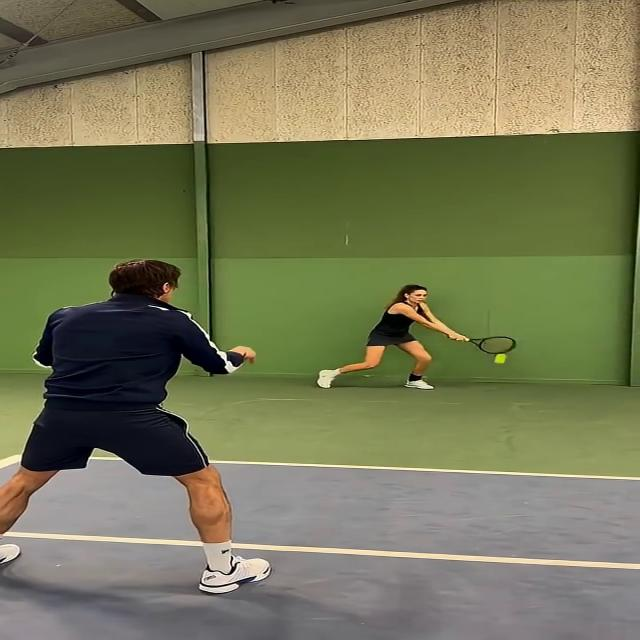tennis_ball: (496, 356, 505, 362)
